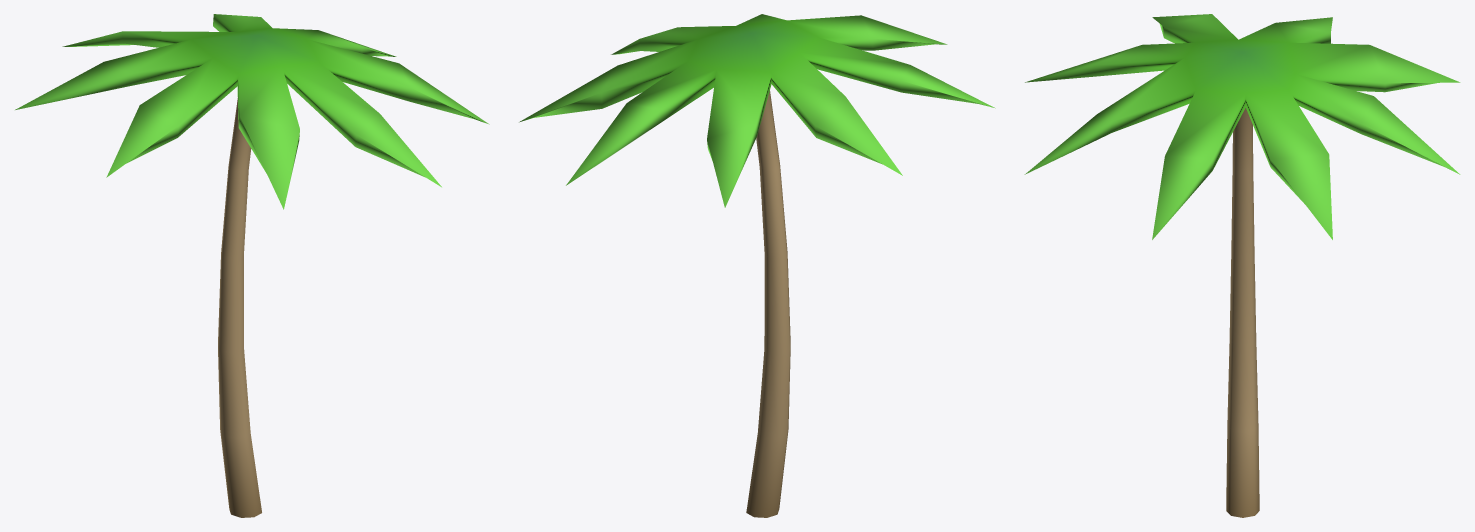
File: palm_01.glb
The picture shows the model from 3 angles, left to right: view 1: azimuth 30°, elevation 25°; view 2: azimuth 150°, elevation 25°; view 3: azimuth 270°, elevation 25°; orthographic projection. The views are drawn at different scales.
Parts seen in each view (by area): view 1: Palm; view 2: Palm; view 3: Palm.
Boxes of the visible parts, x1=… form: Palm: x1=15, y1=14, x2=489, y2=517; Palm: x1=519, y1=14, x2=995, y2=517; Palm: x1=1024, y1=14, x2=1460, y2=517.
Size of what is drawn, in the model's own units: 5.36 by 6.31 by 5.38.
